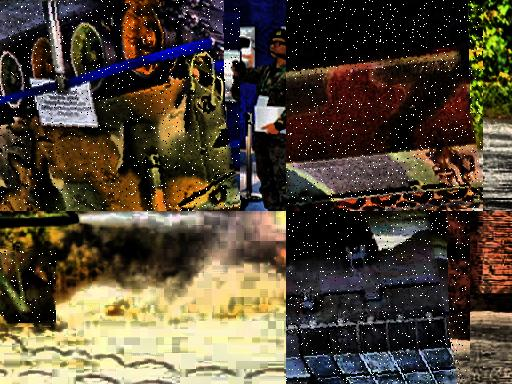tanks: (1, 1, 241, 212), (287, 1, 484, 212), (287, 212, 461, 384), (1, 251, 57, 323), (154, 1, 211, 22), (1, 214, 79, 228)
